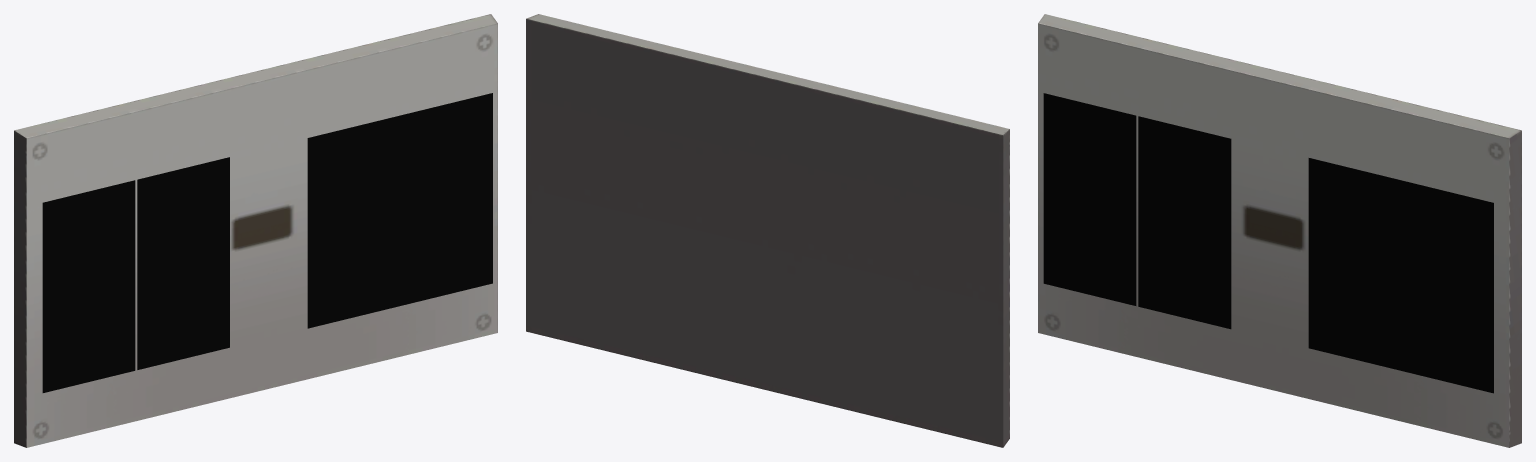
File: SM_ElPole_ID_Sign.FBX
3 renders of one model, left to right at view 1: azimuth 30°, elevation 25°; view 2: azimuth 150°, elevation 25°; view 3: azimuth 330°, elevation 25°, orthographic.
Visible parts, largest first — view 1: SM_ElPole_ID_Sign; view 2: SM_ElPole_ID_Sign; view 3: SM_ElPole_ID_Sign.
Boxes of the visible parts, left/top/right/bottom form: SM_ElPole_ID_Sign: left=14, top=14, right=497, bottom=447; SM_ElPole_ID_Sign: left=526, top=14, right=1009, bottom=447; SM_ElPole_ID_Sign: left=1038, top=14, right=1521, bottom=447.
Size of the model in its own units: 20.09 by 1.08 by 12.58.
